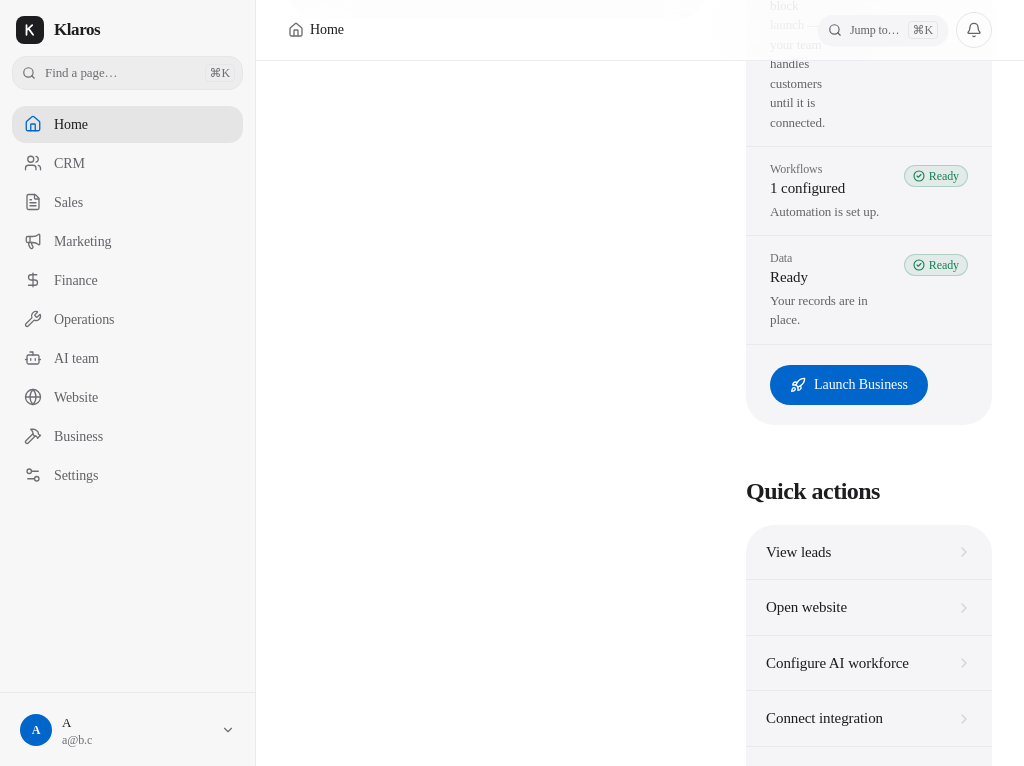
Test: Business Home — launch readiness and the controlled Launch action › a failed launch changes nothing and says so
The image size is (1024, 766).
(page scrolled)
Step 1. Click the button "Launch Business" → (849, 385), box left=770, top=365, right=928, bottom=405
(page scrolled)
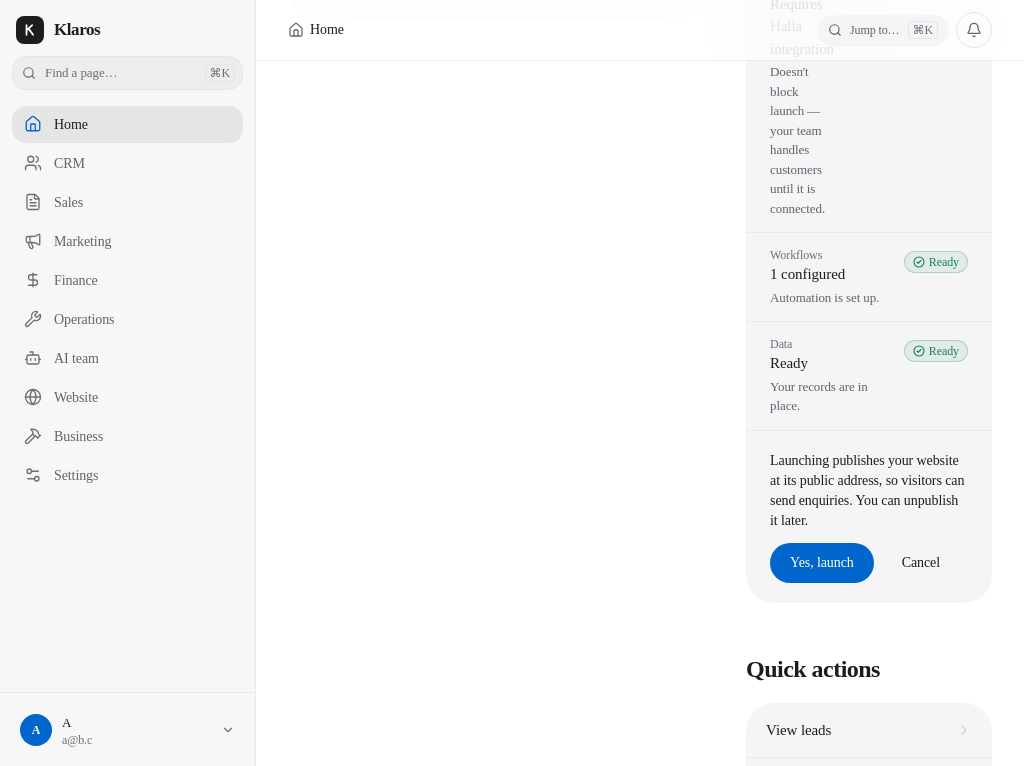
Step 2. Click the button "Yes, launch" → (822, 563), box left=770, top=543, right=874, bottom=583
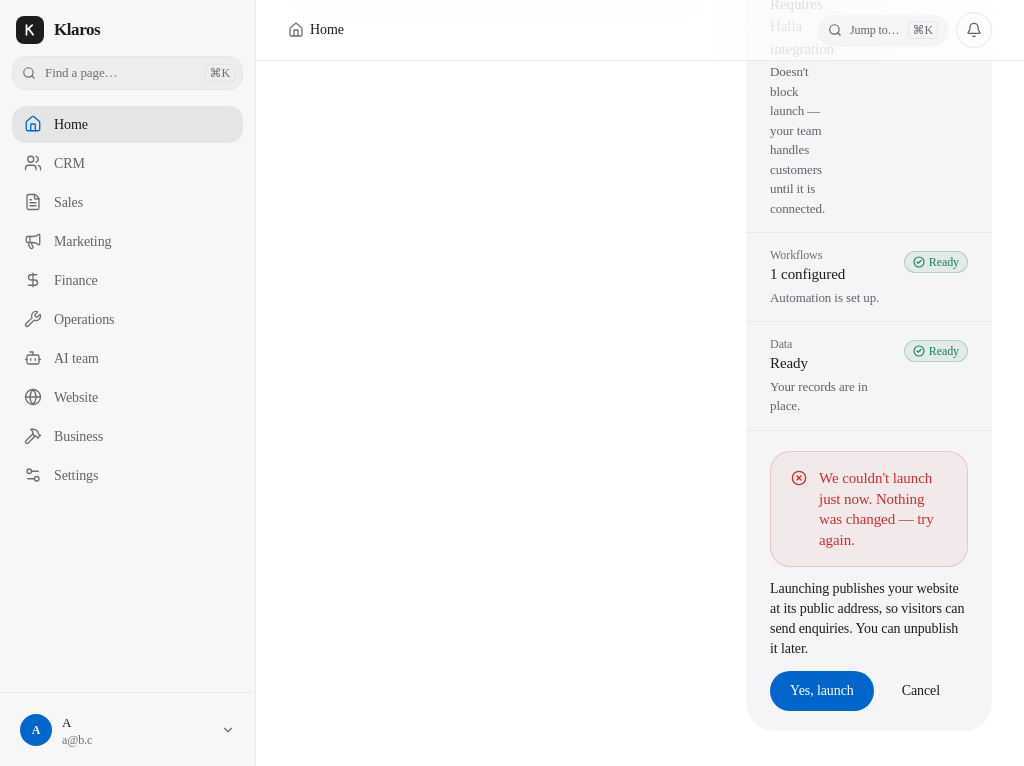
Result: the text "Nothing was changed" is shown at left=819, top=470, right=934, bottom=548
